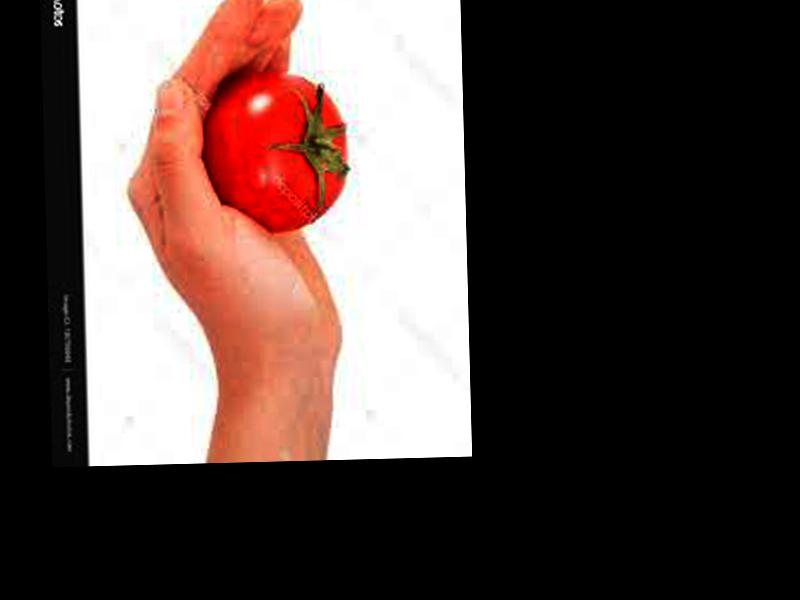Tomato: (203, 74, 347, 235)
